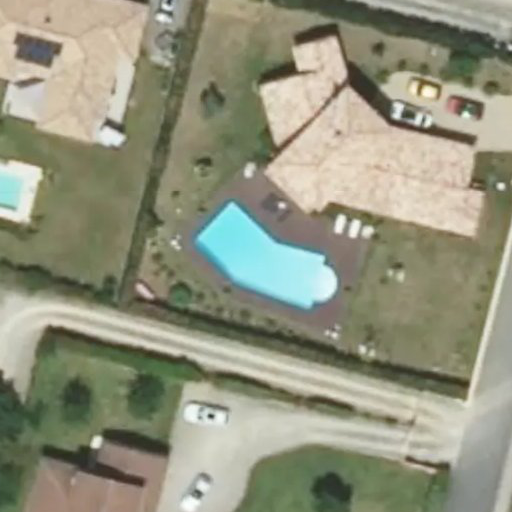pool: (187, 241, 328, 252)
